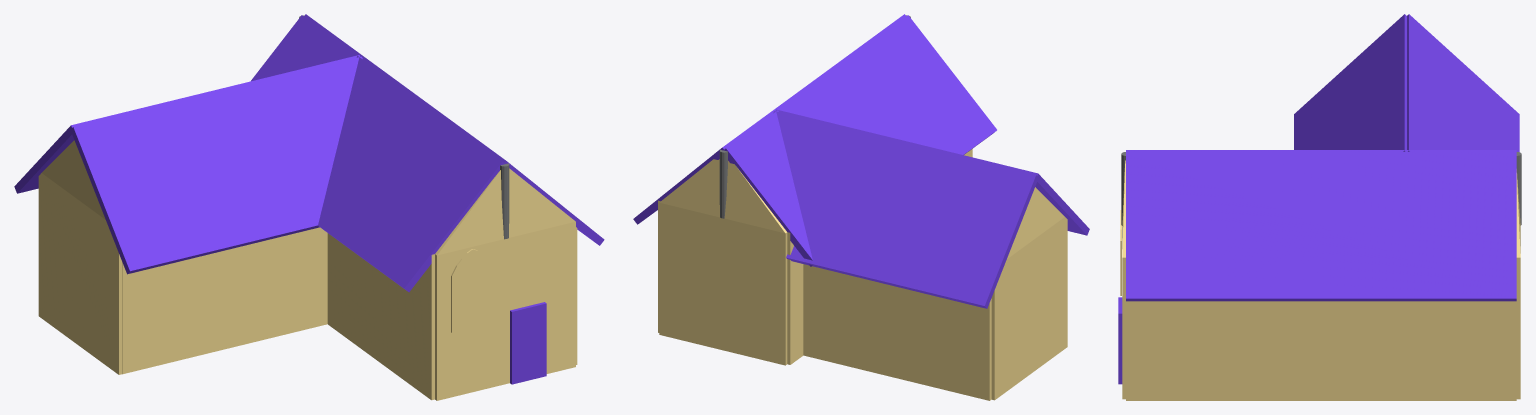
The model's file is HouseD.fbx.
3 renders of one model, left to right at view 1: azimuth 30°, elevation 25°; view 2: azimuth 150°, elevation 25°; view 3: azimuth 270°, elevation 25°, orthographic. The views are drawn at different scales.
Parts seen in each view (by area): view 1: HouseD; view 2: HouseD; view 3: HouseD.
Boxes of the visible parts, x1,y1,x2,y2 form: HouseD: [14, 14, 604, 400]; HouseD: [633, 14, 1089, 400]; HouseD: [1118, 14, 1521, 400].
Size of the model in its own units: 11.18 by 6.08 by 10.33.
